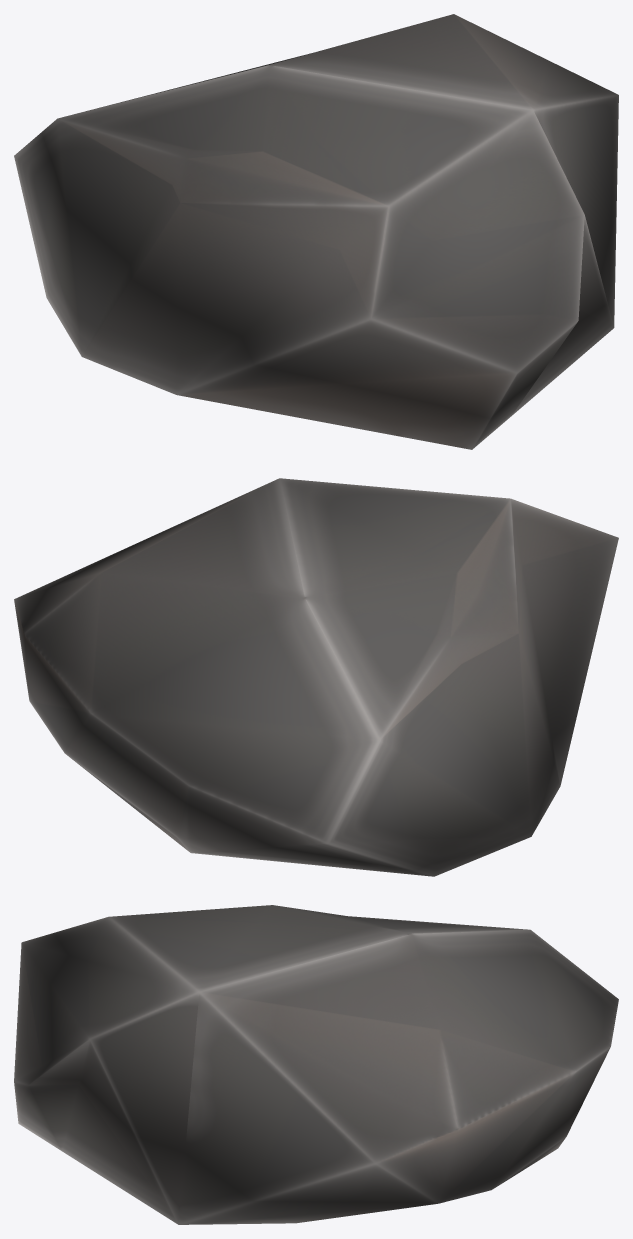
Rendered from Rock_05.gltf.
The picture shows the model from 3 angles, top to bottom: view 1: azimuth 30°, elevation 25°; view 2: azimuth 150°, elevation 25°; view 3: azimuth 270°, elevation 25°; orthographic projection. The views are drawn at different scales.
Visible parts, largest first — view 1: Rock_5; view 2: Rock_5; view 3: Rock_5.
Part boxes in pixels (x1,y1,x2,y2): Rock_5: [14, 14, 618, 449]; Rock_5: [14, 478, 618, 876]; Rock_5: [14, 905, 618, 1224].
Bounding box in the file's own units: 6.32 × 2.51 × 6.8.
Materials: 1 (1 with a texture image).
